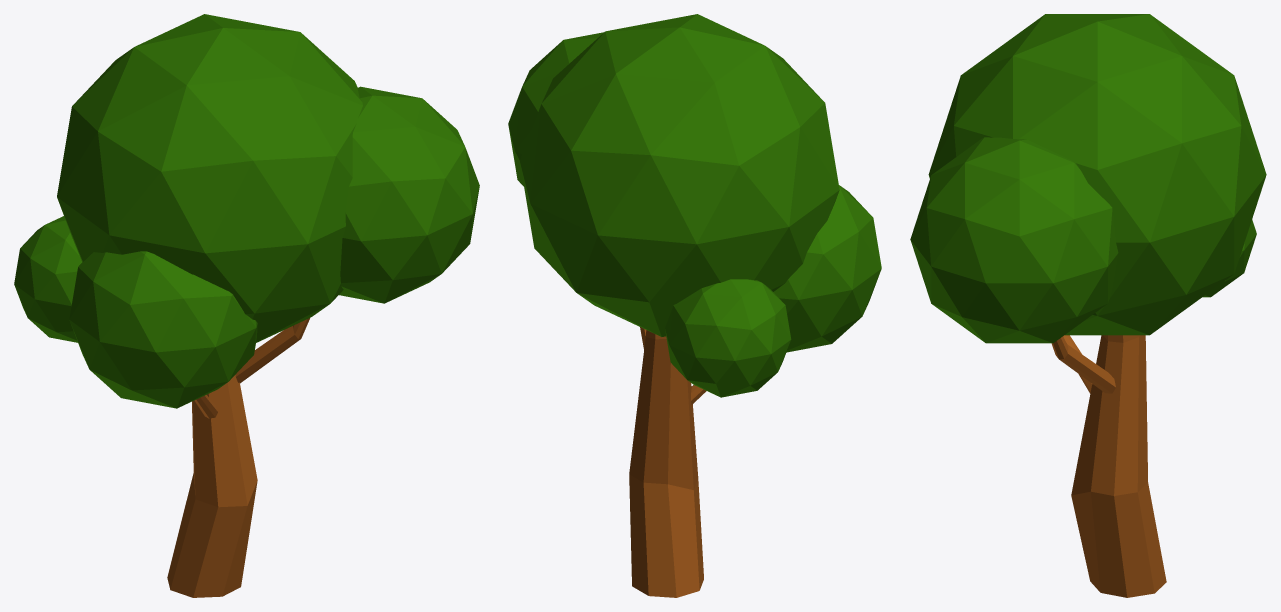
The model's file is Tree02.fbx.
The picture shows the model from 3 angles, left to right: view 1: azimuth 30°, elevation 25°; view 2: azimuth 150°, elevation 25°; view 3: azimuth 270°, elevation 25°; orthographic projection. The views are drawn at different scales.
Visible parts, largest first — view 1: Tree.001; view 2: Tree.001; view 3: Tree.001.
Part boxes in pixels (left/top/right/bottom): Tree.001: left=14, top=14, right=479, bottom=597; Tree.001: left=508, top=14, right=881, bottom=597; Tree.001: left=910, top=14, right=1266, bottom=597.
Size of the model in its own units: 468 by 689 by 396.
